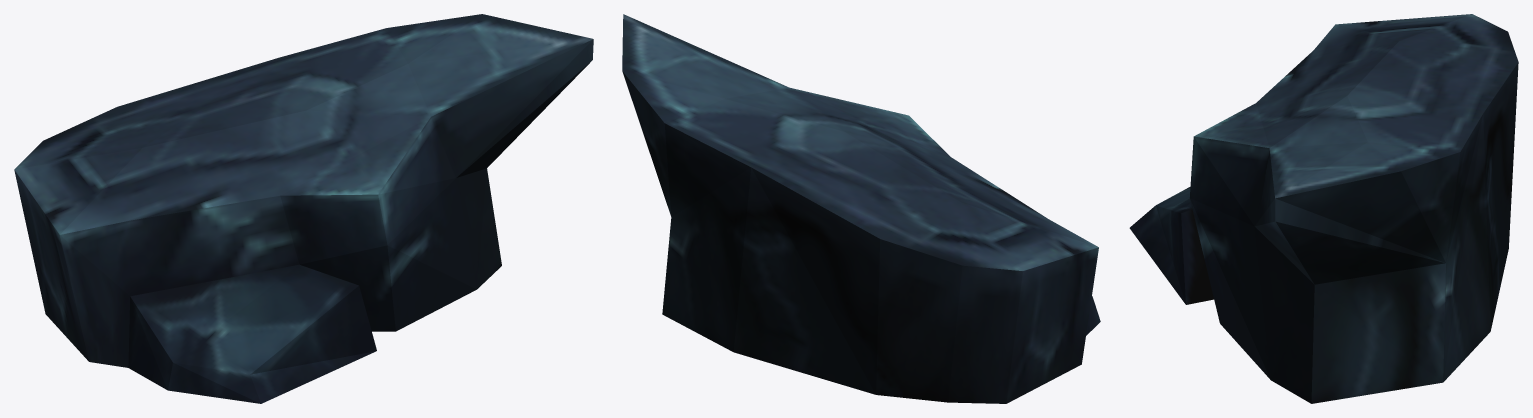
File: H_Maze_xiaoshitou03.FBX
3 renders of one model, left to right at view 1: azimuth 30°, elevation 25°; view 2: azimuth 150°, elevation 25°; view 3: azimuth 270°, elevation 25°, orthographic. The views are drawn at different scales.
Visible parts, largest first — view 1: xiaoshitou03; view 2: xiaoshitou03; view 3: xiaoshitou03.
Boxes of the visible parts, x1,y1,x2,y2 form: xiaoshitou03: (14,14,593,403); xiaoshitou03: (622,14,1100,403); xiaoshitou03: (1129,14,1518,403).
Size of the model in its own units: 167 by 69.56 by 99.43.
